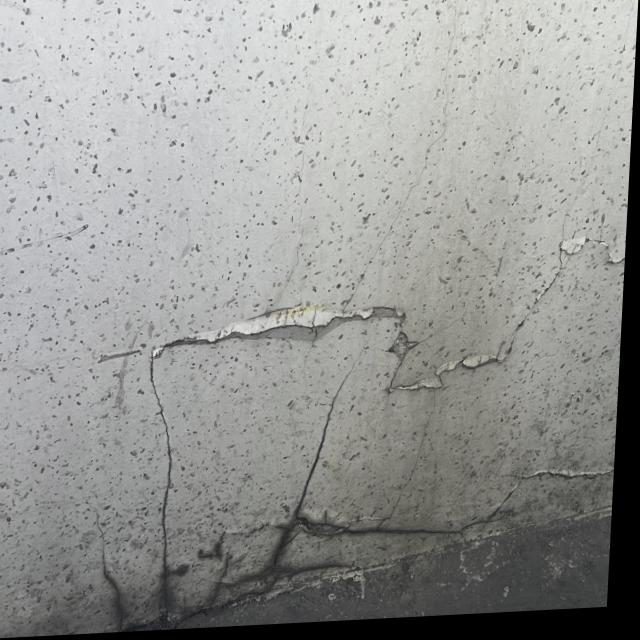crack: (80, 349, 603, 627)
spalling: (125, 281, 417, 401)
